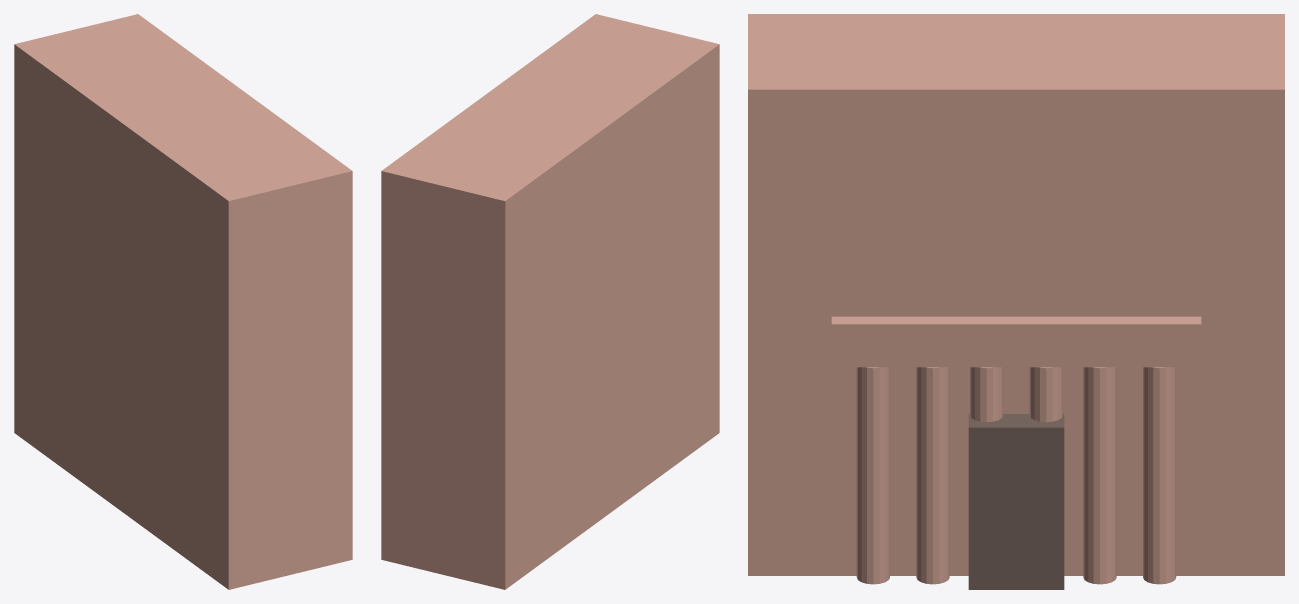
File: petra_s2.glb
3 views of the same model, side by side, from view 1: azimuth 30°, elevation 25°; view 2: azimuth 150°, elevation 25°; view 3: azimuth 270°, elevation 25° (orthographic). The views are drawn at different scales.
Visible parts, largest first — view 1: Cube; view 2: Cube; view 3: Cube, Cube.001, Cube.002, Cylinder, Cylinder.005, Cylinder.001, Cylinder.004, Cylinder.002, Cylinder.003.
Boxes of the visible parts, box(x1,y1,x2,y2) form: Cube: box(14, 14, 352, 589); Cube: box(381, 14, 719, 589); Cube: box(748, 14, 1284, 575); Cube.001: box(831, 316, 1201, 367); Cube.002: box(968, 414, 1064, 589); Cylinder: box(856, 367, 889, 584); Cylinder.005: box(1143, 367, 1176, 584); Cylinder.001: box(916, 367, 949, 584); Cylinder.004: box(1083, 367, 1116, 584); Cylinder.002: box(970, 367, 1003, 422); Cylinder.003: box(1029, 367, 1062, 422).
Bounding box in the file's own units: 3.55 × 9 × 9.
